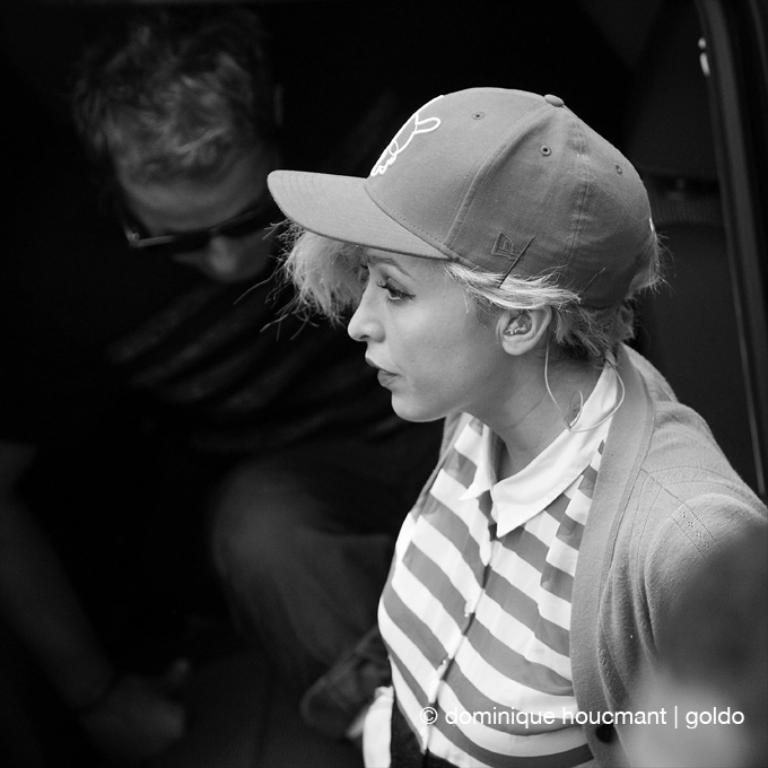Hat: (266, 85, 657, 312)
